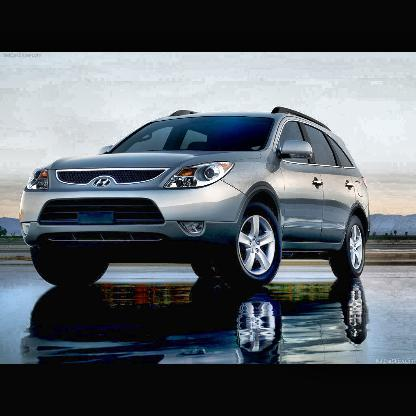Hyundai Veracruz SUV 2012: (18, 105, 373, 287)
